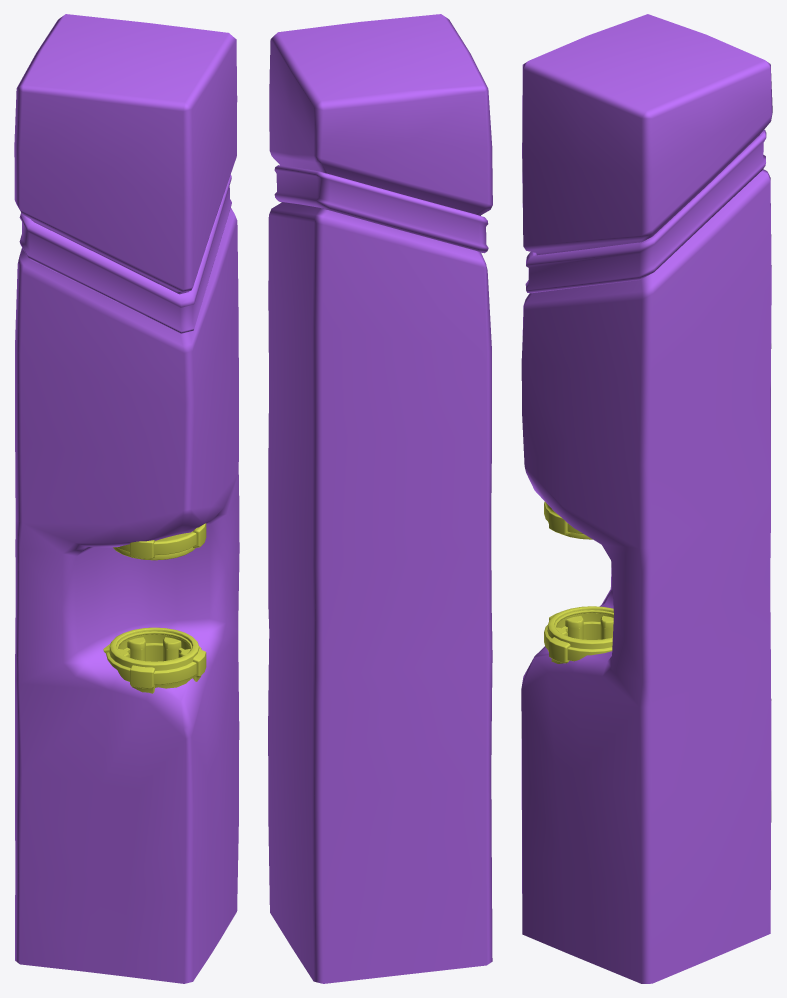
Rendered from env_Chamber_RunePillar_01.FBX.
3 renders of one model, left to right at view 1: azimuth 30°, elevation 25°; view 2: azimuth 150°, elevation 25°; view 3: azimuth 270°, elevation 25°, orthographic.
Parts seen in each view (by area): view 1: env_Chamber_RunePillar_01; view 2: env_Chamber_RunePillar_01; view 3: env_Chamber_RunePillar_01.
Boxes of the visible parts, x1,y1,x2,y2 form: env_Chamber_RunePillar_01: [14, 14, 239, 983]; env_Chamber_RunePillar_01: [268, 14, 492, 983]; env_Chamber_RunePillar_01: [521, 14, 772, 983].
Size of the model in its own units: 202 by 771 by 201.
